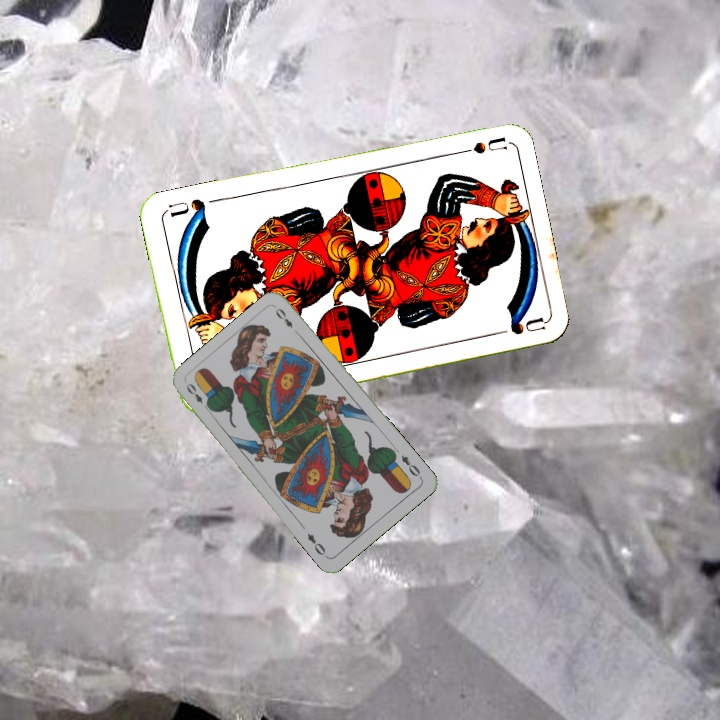EO: (182, 379, 212, 413), (397, 451, 425, 481)
SU: (448, 134, 507, 158)
